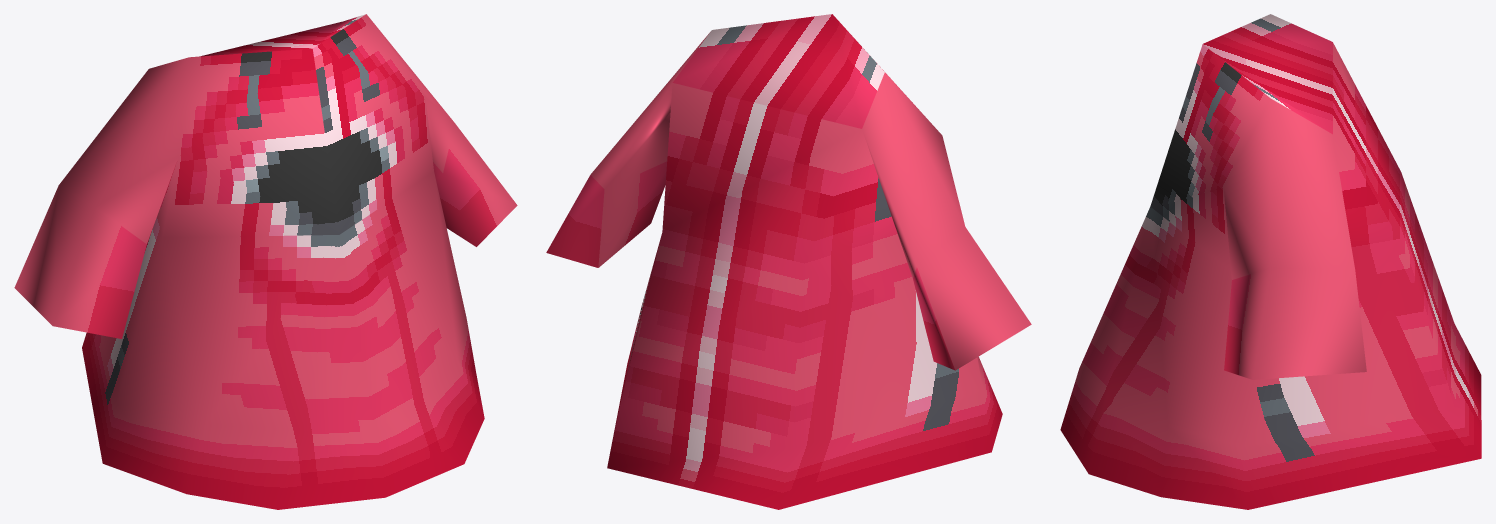
3 renders of one model, left to right at view 1: azimuth 30°, elevation 25°; view 2: azimuth 150°, elevation 25°; view 3: azimuth 270°, elevation 25°, orthographic. The views are drawn at different scales.
Visible parts, largest first — view 1: 2566dress000_r; view 2: 2566dress000_r; view 3: 2566dress000_r.
Boxes of the visible parts, x1,y1,x2,y2 form: 2566dress000_r: (14, 14, 517, 509); 2566dress000_r: (546, 14, 1031, 509); 2566dress000_r: (1060, 14, 1481, 509).
Bounding box in the file's own units: 1.09 × 0.8945 × 0.8848.
1 material, 1 textured.
